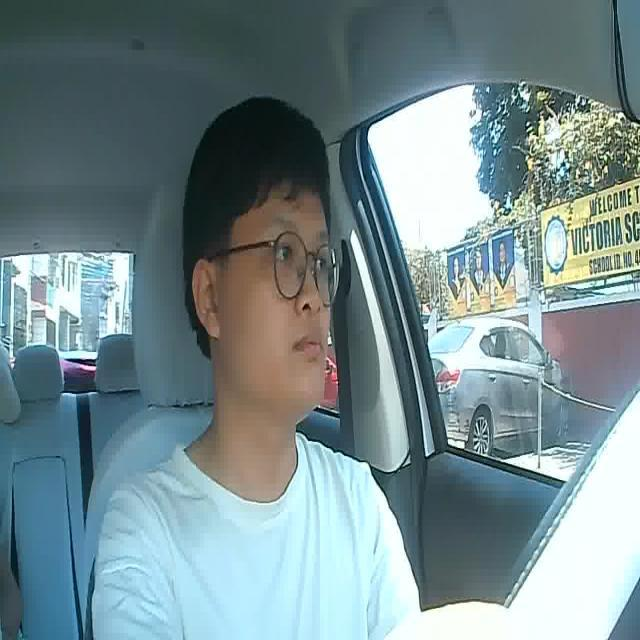Attentive: (180, 94, 334, 414)
Eye-Open: (266, 231, 299, 272), (306, 247, 331, 278)
Normal: (289, 322, 327, 365)
